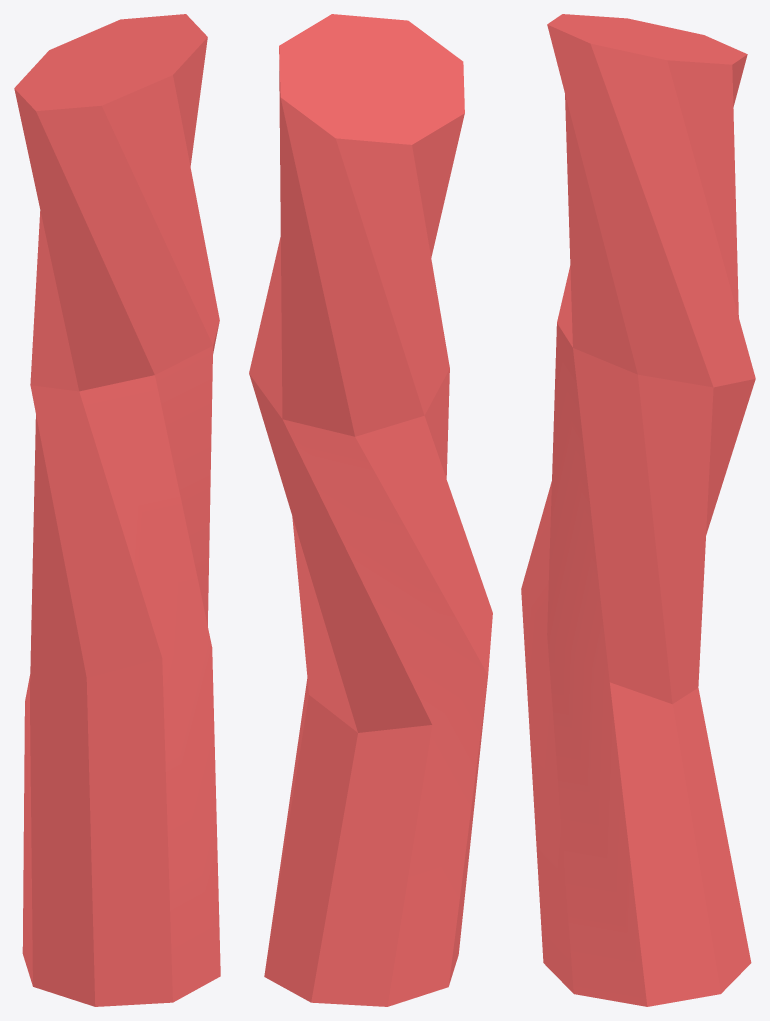
File: tree_trunk.glb
3 renders of one model, left to right at view 1: azimuth 30°, elevation 25°; view 2: azimuth 150°, elevation 25°; view 3: azimuth 270°, elevation 25°, orthographic. The views are drawn at different scales.
Parts seen in each view (by area): view 1: TreeTrunk; view 2: TreeTrunk; view 3: TreeTrunk.
Boxes of the visible parts, x1=… form: TreeTrunk: x1=14, y1=14, x2=220, y2=1006; TreeTrunk: x1=249, y1=14, x2=492, y2=1006; TreeTrunk: x1=521, y1=14, x2=755, y2=1006.
Bounding box in the file's own units: 1.01 × 4.41 × 0.9893.
